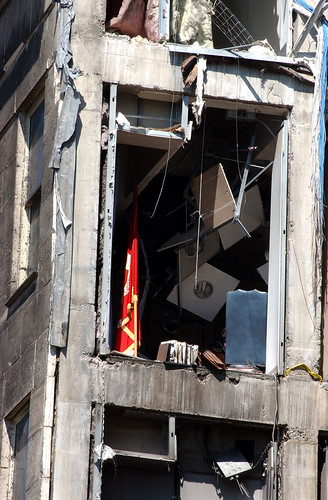building: (1, 1, 328, 500)
